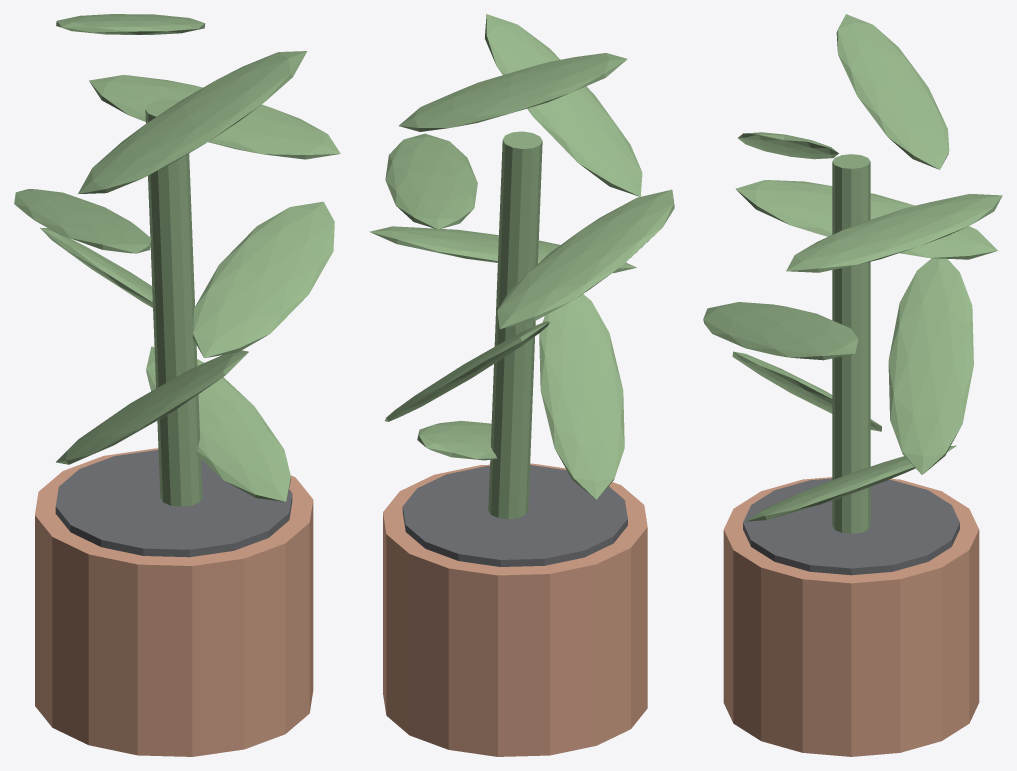
Rendered from plant_low.glb.
The picture shows the model from 3 angles, left to right: view 1: azimuth 30°, elevation 25°; view 2: azimuth 150°, elevation 25°; view 3: azimuth 270°, elevation 25°; orthographic projection. The views are drawn at different scales.
Visible parts, largest first — view 1: TERRACOTTA_pot, DARK_soil, GREEN_stem, GREEN_leaf_3, GREEN_leaf_6, GREEN_leaf_0, GREEN_leaf_5, GREEN_leaf_1, GREEN_leaf_4, GREEN_leaf_7, GREEN_leaf_2; view 2: TERRACOTTA_pot, DARK_soil, GREEN_stem, GREEN_leaf_1, GREEN_leaf_4, GREEN_leaf_6, GREEN_leaf_7, GREEN_leaf_5, GREEN_leaf_3, GREEN_leaf_2, GREEN_leaf_0; view 3: TERRACOTTA_pot, GREEN_leaf_2, DARK_soil, GREEN_stem, GREEN_leaf_7, GREEN_leaf_5, GREEN_leaf_3, GREEN_leaf_4, GREEN_leaf_0, GREEN_leaf_1, GREEN_leaf_6.
Boxes of the visible parts, x1,y1,x2,y2 form: TERRACOTTA_pot: [35, 448, 313, 756]; DARK_soil: [55, 450, 292, 557]; GREEN_stem: [145, 99, 202, 506]; GREEN_leaf_3: [192, 201, 334, 357]; GREEN_leaf_6: [78, 51, 307, 193]; GREEN_leaf_0: [146, 346, 290, 501]; GREEN_leaf_5: [89, 75, 340, 159]; GREEN_leaf_1: [56, 350, 248, 464]; GREEN_leaf_4: [14, 189, 151, 253]; GREEN_leaf_7: [56, 14, 205, 34]; GREEN_leaf_2: [40, 227, 152, 307]; TERRACOTTA_pot: [383, 463, 647, 756]; DARK_soil: [402, 465, 627, 566]; GREEN_stem: [488, 131, 542, 519]; GREEN_leaf_1: [539, 294, 624, 499]; GREEN_leaf_4: [497, 189, 674, 328]; GREEN_leaf_6: [484, 14, 642, 196]; GREEN_leaf_7: [399, 53, 627, 131]; GREEN_leaf_5: [385, 133, 477, 229]; GREEN_leaf_3: [369, 226, 636, 273]; GREEN_leaf_2: [385, 321, 549, 421]; GREEN_leaf_0: [417, 420, 496, 460]; TERRACOTTA_pot: [723, 477, 979, 756]; GREEN_leaf_2: [888, 258, 973, 474]; DARK_soil: [743, 478, 959, 575]; GREEN_stem: [832, 154, 870, 533]; GREEN_leaf_7: [836, 14, 949, 169]; GREEN_leaf_5: [786, 194, 1002, 272]; GREEN_leaf_3: [703, 302, 859, 360]; GREEN_leaf_4: [735, 180, 997, 259]; GREEN_leaf_0: [746, 445, 956, 521]; GREEN_leaf_1: [732, 351, 881, 431]; GREEN_leaf_6: [738, 132, 838, 159].
Bounding box in the file's own units: 0.6927 × 1.65 × 0.7039.
